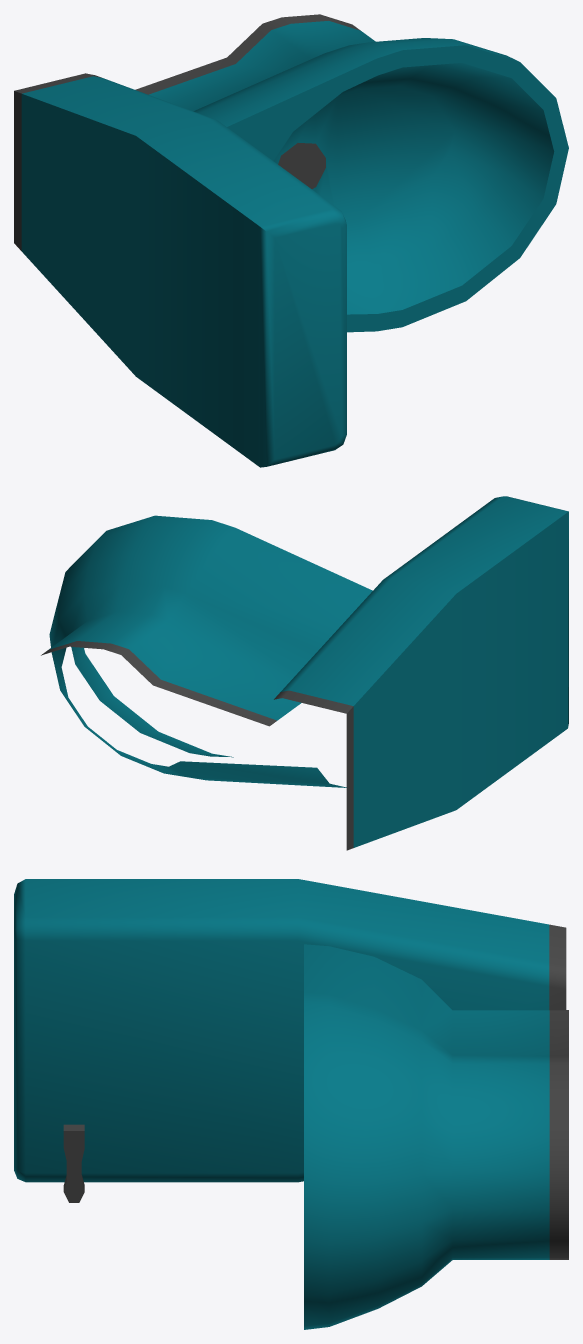
The model's file is toilet.glb.
3 views of the same model, one above another, from view 1: azimuth 30°, elevation 25°; view 2: azimuth 150°, elevation 25°; view 3: azimuth 270°, elevation 25° (orthographic). The views are drawn at different scales.
Visible parts, largest first — view 1: toilet; view 2: toilet; view 3: toilet.
Boxes of the visible parts, x1=… form: toilet: x1=14, y1=14, x2=568, y2=467; toilet: x1=41, y1=496, x2=568, y2=850; toilet: x1=14, y1=879, x2=568, y2=1329.
Bounding box in the file's own units: 1.05 × 0.6389 × 1.06.
